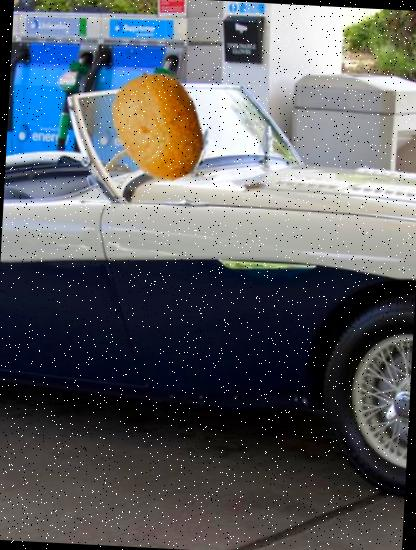Kiwi: (100, 66, 218, 185)
